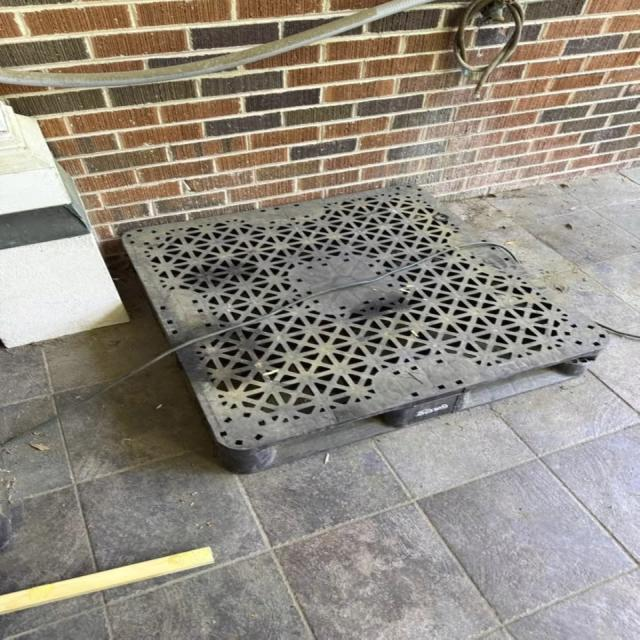non-igps: (116, 180, 614, 479)
